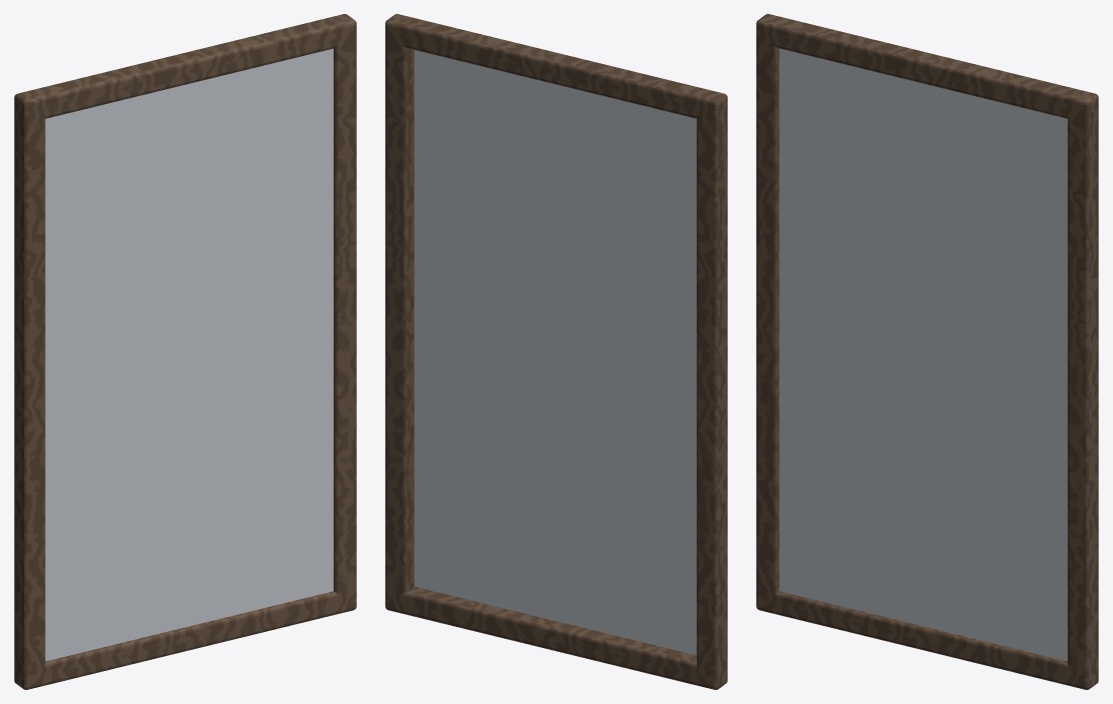
Rendered from PRP_Mirror.fbx.
3 renders of one model, left to right at view 1: azimuth 30°, elevation 25°; view 2: azimuth 150°, elevation 25°; view 3: azimuth 330°, elevation 25°, orthographic.
Parts seen in each view (by area): view 1: Mirror_Plane, Mirror_Frame; view 2: Mirror_Plane, Mirror_Frame; view 3: Mirror_Plane, Mirror_Frame.
Part boxes in pixels (<box>): Mirror_Plane: <box>45,48,333,661</box>; Mirror_Frame: <box>14,14,356,689</box>; Mirror_Plane: <box>414,50,696,655</box>; Mirror_Frame: <box>385,14,727,689</box>; Mirror_Plane: <box>779,48,1067,661</box>; Mirror_Frame: <box>756,14,1098,689</box>.
Bounding box in the file's own units: 74 × 125 × 4.5.
